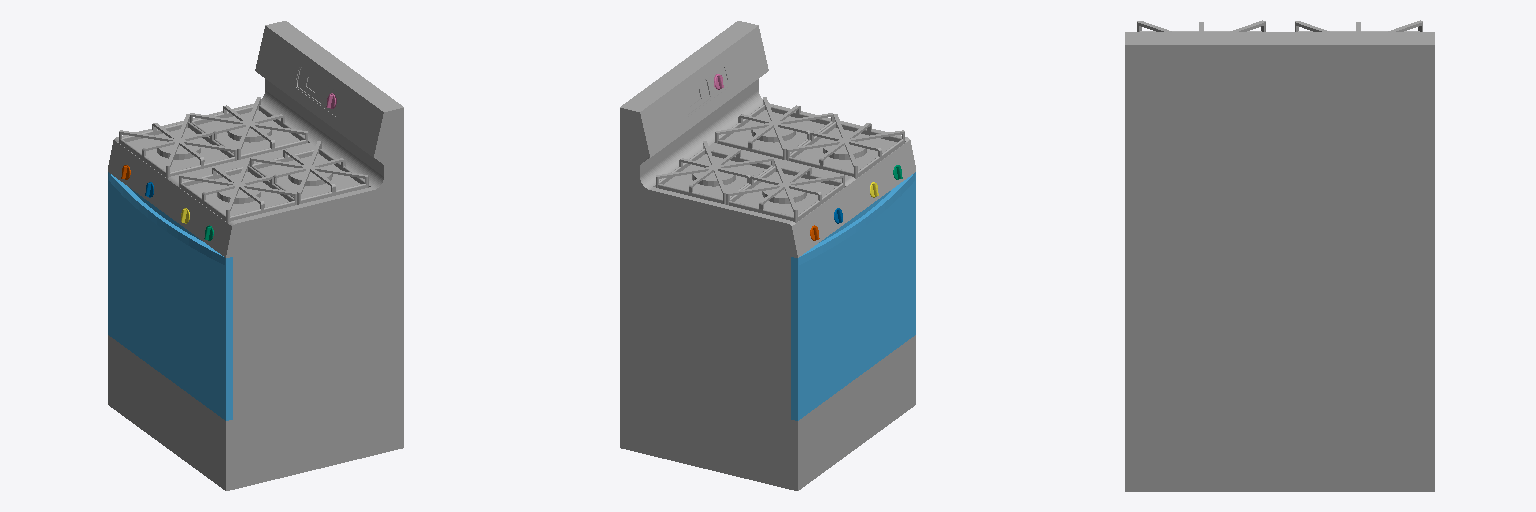
The robot description file, URDF, robot "partnet_a46e0c10f17f928ba2bc8d1e386113dc":
<?xml version="1.0" ?>
<robot name="partnet_a46e0c10f17f928ba2bc8d1e386113dc">
	<link name="base"/>
	<link name="link_0">
		<visual name="door-1">
			<origin xyz="-0.47424500000000014 0.353898218181111 -0.40862127993756275"/>
			<geometry>
				<mesh filename="textured_objs/original-49.obj"/>
			</geometry>
		</visual>
		<visual name="door-1">
			<origin xyz="-0.47424500000000014 0.353898218181111 -0.40862127993756275"/>
			<geometry>
				<mesh filename="textured_objs/original-43.obj"/>
			</geometry>
		</visual>
		<collision>
			<origin xyz="-0.47424500000000014 0.353898218181111 -0.40862127993756275"/>
			<geometry>
				<mesh filename="textured_objs/original-49.obj"/>
			</geometry>
		</collision>
		<collision>
			<origin xyz="-0.47424500000000014 0.353898218181111 -0.40862127993756275"/>
			<geometry>
				<mesh filename="textured_objs/original-43.obj"/>
			</geometry>
		</collision>
	</link>
	<joint name="joint_0" type="revolute">
		<origin xyz="0.47424500000000014 -0.353898218181111 0.40862127993756275"/>
		<axis xyz="1 0 0"/>
		<child link="link_0"/>
		<parent link="link_6"/>
		<limit lower="-0.0" upper="1.5707963267948966"/>
	</joint>
	<link name="link_1">
		<visual name="knob-2">
			<origin xyz="-0.3349025825959522 -0.2851634037124644 0.06175526596405435"/>
			<geometry>
				<mesh filename="textured_objs/original-31.obj"/>
			</geometry>
		</visual>
		<visual name="knob-2">
			<origin xyz="-0.3349025825959522 -0.2851634037124644 0.06175526596405435"/>
			<geometry>
				<mesh filename="textured_objs/original-30.obj"/>
			</geometry>
		</visual>
		<collision>
			<origin xyz="-0.3349025825959522 -0.2851634037124644 0.06175526596405435"/>
			<geometry>
				<mesh filename="textured_objs/original-31.obj"/>
			</geometry>
		</collision>
		<collision>
			<origin xyz="-0.3349025825959522 -0.2851634037124644 0.06175526596405435"/>
			<geometry>
				<mesh filename="textured_objs/original-30.obj"/>
			</geometry>
		</collision>
	</link>
	<joint name="joint_1" type="continuous">
		<origin xyz="0.3349025825959522 0.2851634037124644 -0.06175526596405435"/>
		<axis xyz="-0.001192823420842035 0.21299245819117937 0.9770531152020168"/>
		<child link="link_1"/>
		<parent link="link_6"/>
	</joint>
	<link name="link_2">
		<visual name="knob-3">
			<origin xyz="-0.1471598267840758 -0.2849639577410524 0.062325979139062536"/>
			<geometry>
				<mesh filename="textured_objs/original-35.obj"/>
			</geometry>
		</visual>
		<visual name="knob-3">
			<origin xyz="-0.1471598267840758 -0.2849639577410524 0.062325979139062536"/>
			<geometry>
				<mesh filename="textured_objs/original-34.obj"/>
			</geometry>
		</visual>
		<collision>
			<origin xyz="-0.1471598267840758 -0.2849639577410524 0.062325979139062536"/>
			<geometry>
				<mesh filename="textured_objs/original-35.obj"/>
			</geometry>
		</collision>
		<collision>
			<origin xyz="-0.1471598267840758 -0.2849639577410524 0.062325979139062536"/>
			<geometry>
				<mesh filename="textured_objs/original-34.obj"/>
			</geometry>
		</collision>
	</link>
	<joint name="joint_2" type="continuous">
		<origin xyz="0.1471598267840758 0.2849639577410524 -0.062325979139062536"/>
		<axis xyz="-0.0010694498797925451 -0.21313732855150858 -0.9770216658062814"/>
		<child link="link_2"/>
		<parent link="link_6"/>
	</joint>
	<link name="link_3">
		<visual name="knob-4">
			<origin xyz="0.13223654896660555 -0.2849748238135678 0.062170699999814207"/>
			<geometry>
				<mesh filename="textured_objs/original-37.obj"/>
			</geometry>
		</visual>
		<visual name="knob-4">
			<origin xyz="0.13223654896660555 -0.2849748238135678 0.062170699999814207"/>
			<geometry>
				<mesh filename="textured_objs/original-36.obj"/>
			</geometry>
		</visual>
		<collision>
			<origin xyz="0.13223654896660555 -0.2849748238135678 0.062170699999814207"/>
			<geometry>
				<mesh filename="textured_objs/original-37.obj"/>
			</geometry>
		</collision>
		<collision>
			<origin xyz="0.13223654896660555 -0.2849748238135678 0.062170699999814207"/>
			<geometry>
				<mesh filename="textured_objs/original-36.obj"/>
			</geometry>
		</collision>
	</link>
	<joint name="joint_3" type="continuous">
		<origin xyz="-0.13223654896660555 0.2849748238135678 -0.062170699999814207"/>
		<axis xyz="1.4002019567748777e-05 -0.21314246443930057 -0.9770211306091007"/>
		<child link="link_3"/>
		<parent link="link_6"/>
	</joint>
	<link name="link_4">
		<visual name="knob-5">
			<origin xyz="0.318870972328809 -0.2849841253083386 0.06216276026974432"/>
			<geometry>
				<mesh filename="textured_objs/original-33.obj"/>
			</geometry>
		</visual>
		<visual name="knob-5">
			<origin xyz="0.318870972328809 -0.2849841253083386 0.06216276026974432"/>
			<geometry>
				<mesh filename="textured_objs/original-32.obj"/>
			</geometry>
		</visual>
		<collision>
			<origin xyz="0.318870972328809 -0.2849841253083386 0.06216276026974432"/>
			<geometry>
				<mesh filename="textured_objs/original-33.obj"/>
			</geometry>
		</collision>
		<collision>
			<origin xyz="0.318870972328809 -0.2849841253083386 0.06216276026974432"/>
			<geometry>
				<mesh filename="textured_objs/original-32.obj"/>
			</geometry>
		</collision>
	</link>
	<joint name="joint_4" type="continuous">
		<origin xyz="-0.318870972328809 0.2849841253083386 -0.06216276026974432"/>
		<axis xyz="-1.1084275068274589e-05 -0.21312788244604602 -0.977024311673565"/>
		<child link="link_4"/>
		<parent link="link_6"/>
	</joint>
	<link name="link_5">
		<visual name="knob-6">
			<origin xyz="-0.11161254878638628 -0.7344994147153779 0.1764360869314384"/>
			<geometry>
				<mesh filename="textured_objs/original-39.obj"/>
			</geometry>
		</visual>
		<visual name="knob-6">
			<origin xyz="-0.11161254878638628 -0.7344994147153779 0.1764360869314384"/>
			<geometry>
				<mesh filename="textured_objs/original-27.obj"/>
			</geometry>
		</visual>
		<visual name="knob-6">
			<origin xyz="-0.11161254878638628 -0.7344994147153779 0.1764360869314384"/>
			<geometry>
				<mesh filename="textured_objs/original-38.obj"/>
			</geometry>
		</visual>
		<collision>
			<origin xyz="-0.11161254878638628 -0.7344994147153779 0.1764360869314384"/>
			<geometry>
				<mesh filename="textured_objs/original-39.obj"/>
			</geometry>
		</collision>
		<collision>
			<origin xyz="-0.11161254878638628 -0.7344994147153779 0.1764360869314384"/>
			<geometry>
				<mesh filename="textured_objs/original-27.obj"/>
			</geometry>
		</collision>
		<collision>
			<origin xyz="-0.11161254878638628 -0.7344994147153779 0.1764360869314384"/>
			<geometry>
				<mesh filename="textured_objs/original-38.obj"/>
			</geometry>
		</collision>
	</link>
	<joint name="joint_5" type="continuous">
		<origin xyz="0.11161254878638628 0.7344994147153779 -0.1764360869314384"/>
		<axis xyz="-6.541347678246784e-05 -0.23355909684856696 -0.9723426062866724"/>
		<child link="link_5"/>
		<parent link="link_6"/>
	</joint>
	<link name="link_6">
		<visual name="base_body-7">
			<origin xyz="0 0 0"/>
			<geometry>
				<mesh filename="textured_objs/original-29.obj"/>
			</geometry>
		</visual>
		<visual name="base_body-7">
			<origin xyz="0 0 0"/>
			<geometry>
				<mesh filename="textured_objs/original-21.obj"/>
			</geometry>
		</visual>
		<visual name="base_body-7">
			<origin xyz="0 0 0"/>
			<geometry>
				<mesh filename="textured_objs/original-41.obj"/>
			</geometry>
		</visual>
		<visual name="base_body-7">
			<origin xyz="0 0 0"/>
			<geometry>
				<mesh filename="textured_objs/original-52.obj"/>
			</geometry>
		</visual>
		<visual name="base_body-7">
			<origin xyz="0 0 0"/>
			<geometry>
				<mesh filename="textured_objs/original-3.obj"/>
			</geometry>
		</visual>
		<visual name="base_body-7">
			<origin xyz="0 0 0"/>
			<geometry>
				<mesh filename="textured_objs/original-2.obj"/>
			</geometry>
		</visual>
		<visual name="base_body-7">
			<origin xyz="0 0 0"/>
			<geometry>
				<mesh filename="textured_objs/original-44.obj"/>
			</geometry>
		</visual>
		<visual name="base_body-7">
			<origin xyz="0 0 0"/>
			<geometry>
				<mesh filename="textured_objs/original-9.obj"/>
			</geometry>
		</visual>
		<visual name="base_body-7">
			<origin xyz="0 0 0"/>
			<geometry>
				<mesh filename="textured_objs/original-45.obj"/>
			</geometry>
		</visual>
		<visual name="base_body-7">
			<origin xyz="0 0 0"/>
			<geometry>
				<mesh filename="textured_objs/original-51.obj"/>
			</geometry>
		</visual>
		<visual name="base_body-7">
			<origin xyz="0 0 0"/>
			<geometry>
				<mesh filename="textured_objs/original-50.obj"/>
			</geometry>
		</visual>
		<visual name="base_body-7">
			<origin xyz="0 0 0"/>
			<geometry>
				<mesh filename="textured_objs/original-6.obj"/>
			</geometry>
		</visual>
		<visual name="base_body-7">
			<origin xyz="0 0 0"/>
			<geometry>
				<mesh filename="textured_objs/original-48.obj"/>
			</geometry>
		</visual>
		<visual name="base_body-7">
			<origin xyz="0 0 0"/>
			<geometry>
				<mesh filename="textured_objs/original-15.obj"/>
			</geometry>
		</visual>
		<visual name="base_body-7">
			<origin xyz="0 0 0"/>
			<geometry>
				<mesh filename="textured_objs/original-11.obj"/>
			</geometry>
		</visual>
		<visual name="base_body-7">
			<origin xyz="0 0 0"/>
			<geometry>
				<mesh filename="textured_objs/original-18.obj"/>
			</geometry>
		</visual>
		<visual name="base_body-7">
			<origin xyz="0 0 0"/>
			<geometry>
				<mesh filename="textured_objs/original-17.obj"/>
			</geometry>
		</visual>
		<visual name="base_body-7">
			<origin xyz="0 0 0"/>
			<geometry>
				<mesh filename="textured_objs/original-12.obj"/>
			</geometry>
		</visual>
		<visual name="base_body-7">
			<origin xyz="0 0 0"/>
			<geometry>
				<mesh filename="textured_objs/original-42.obj"/>
			</geometry>
		</visual>
		<visual name="base_body-7">
			<origin xyz="0 0 0"/>
			<geometry>
				<mesh filename="textured_objs/original-24.obj"/>
			</geometry>
		</visual>
		<visual name="base_body-7">
			<origin xyz="0 0 0"/>
			<geometry>
				<mesh filename="textured_objs/original-47.obj"/>
			</geometry>
		</visual>
		<visual name="base_body-7">
			<origin xyz="0 0 0"/>
			<geometry>
				<mesh filename="textured_objs/original-14.obj"/>
			</geometry>
		</visual>
		<visual name="base_body-7">
			<origin xyz="0 0 0"/>
			<geometry>
				<mesh filename="textured_objs/original-40.obj"/>
			</geometry>
		</visual>
		<visual name="base_body-7">
			<origin xyz="0 0 0"/>
			<geometry>
				<mesh filename="textured_objs/original-46.obj"/>
			</geometry>
		</visual>
		<collision>
			<origin xyz="0 0 0"/>
			<geometry>
				<mesh filename="textured_objs/original-29.obj"/>
			</geometry>
		</collision>
		<collision>
			<origin xyz="0 0 0"/>
			<geometry>
				<mesh filename="textured_objs/original-21.obj"/>
			</geometry>
		</collision>
		<collision>
			<origin xyz="0 0 0"/>
			<geometry>
				<mesh filename="textured_objs/original-41.obj"/>
			</geometry>
		</collision>
		<collision>
			<origin xyz="0 0 0"/>
			<geometry>
				<mesh filename="textured_objs/original-52.obj"/>
			</geometry>
		</collision>
		<collision>
			<origin xyz="0 0 0"/>
			<geometry>
				<mesh filename="textured_objs/original-3.obj"/>
			</geometry>
		</collision>
		<collision>
			<origin xyz="0 0 0"/>
			<geometry>
				<mesh filename="textured_objs/original-2.obj"/>
			</geometry>
		</collision>
		<collision>
			<origin xyz="0 0 0"/>
			<geometry>
				<mesh filename="textured_objs/original-44.obj"/>
			</geometry>
		</collision>
		<collision>
			<origin xyz="0 0 0"/>
			<geometry>
				<mesh filename="textured_objs/original-9.obj"/>
			</geometry>
		</collision>
		<collision>
			<origin xyz="0 0 0"/>
			<geometry>
				<mesh filename="textured_objs/original-45.obj"/>
			</geometry>
		</collision>
		<collision>
			<origin xyz="0 0 0"/>
			<geometry>
				<mesh filename="textured_objs/original-51.obj"/>
			</geometry>
		</collision>
		<collision>
			<origin xyz="0 0 0"/>
			<geometry>
				<mesh filename="textured_objs/original-50.obj"/>
			</geometry>
		</collision>
		<collision>
			<origin xyz="0 0 0"/>
			<geometry>
				<mesh filename="textured_objs/original-6.obj"/>
			</geometry>
		</collision>
		<collision>
			<origin xyz="0 0 0"/>
			<geometry>
				<mesh filename="textured_objs/original-48.obj"/>
			</geometry>
		</collision>
		<collision>
			<origin xyz="0 0 0"/>
			<geometry>
				<mesh filename="textured_objs/original-15.obj"/>
			</geometry>
		</collision>
		<collision>
			<origin xyz="0 0 0"/>
			<geometry>
				<mesh filename="textured_objs/original-11.obj"/>
			</geometry>
		</collision>
		<collision>
			<origin xyz="0 0 0"/>
			<geometry>
				<mesh filename="textured_objs/original-18.obj"/>
			</geometry>
		</collision>
		<collision>
			<origin xyz="0 0 0"/>
			<geometry>
				<mesh filename="textured_objs/original-17.obj"/>
			</geometry>
		</collision>
		<collision>
			<origin xyz="0 0 0"/>
			<geometry>
				<mesh filename="textured_objs/original-12.obj"/>
			</geometry>
		</collision>
		<collision>
			<origin xyz="0 0 0"/>
			<geometry>
				<mesh filename="textured_objs/original-42.obj"/>
			</geometry>
		</collision>
		<collision>
			<origin xyz="0 0 0"/>
			<geometry>
				<mesh filename="textured_objs/original-24.obj"/>
			</geometry>
		</collision>
		<collision>
			<origin xyz="0 0 0"/>
			<geometry>
				<mesh filename="textured_objs/original-47.obj"/>
			</geometry>
		</collision>
		<collision>
			<origin xyz="0 0 0"/>
			<geometry>
				<mesh filename="textured_objs/original-14.obj"/>
			</geometry>
		</collision>
		<collision>
			<origin xyz="0 0 0"/>
			<geometry>
				<mesh filename="textured_objs/original-40.obj"/>
			</geometry>
		</collision>
		<collision>
			<origin xyz="0 0 0"/>
			<geometry>
				<mesh filename="textured_objs/original-46.obj"/>
			</geometry>
		</collision>
	</link>
	<joint name="joint_6" type="fixed">
		<origin rpy="1.570796326794897 0 -1.570796326794897" xyz="0 0 0"/>
		<child link="link_6"/>
		<parent link="base"/>
	</joint>
</robot>

--- What the picture shows (computed from the rendered views, not written in the file) ---
3 views of the same robot in one strip: view 1: azimuth 30°, elevation 25°; view 2: azimuth 150°, elevation 25°; view 3: azimuth 270°, elevation 25° (orthographic).
Model partnet_a46e0c10f17f928ba2bc8d1e386113dc with 8 links and 7 joints (1 revolute, 5 continuous, 1 fixed), rooted at base, posed all joints at 0.
Visible links, largest first — view 1: link_6, link_0; view 2: link_6, link_0; view 3: link_6.
Boxes of the visible links, x1=… form: link_6: x1=108, y1=21, x2=403, y2=490; link_0: x1=108, y1=172, x2=232, y2=420; link_6: x1=620, y1=21, x2=915, y2=490; link_0: x1=791, y1=172, x2=915, y2=420; link_6: x1=1125, y1=20, x2=1434, y2=491.
Bounding box of the posed robot: 0.8518 × 0.9331 × 1.48 m (x, y, z).
Meshes: 37 distinct files referenced, 37 mesh visuals loaded (37 OBJ).